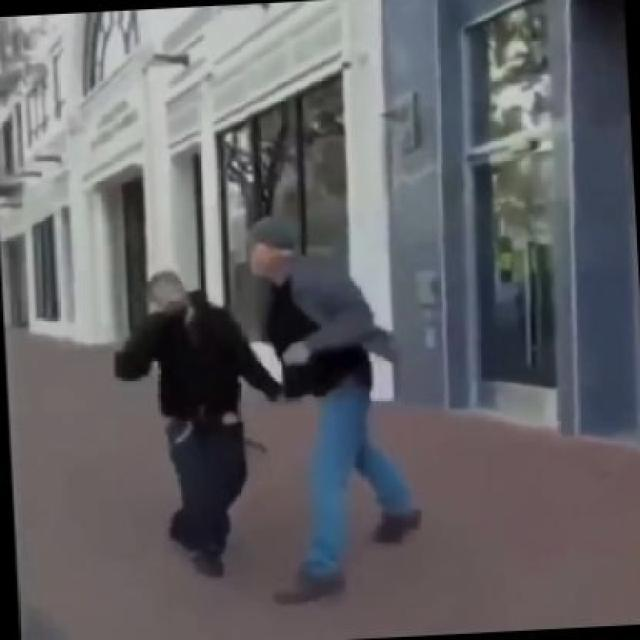fight: (48, 138, 488, 637)
